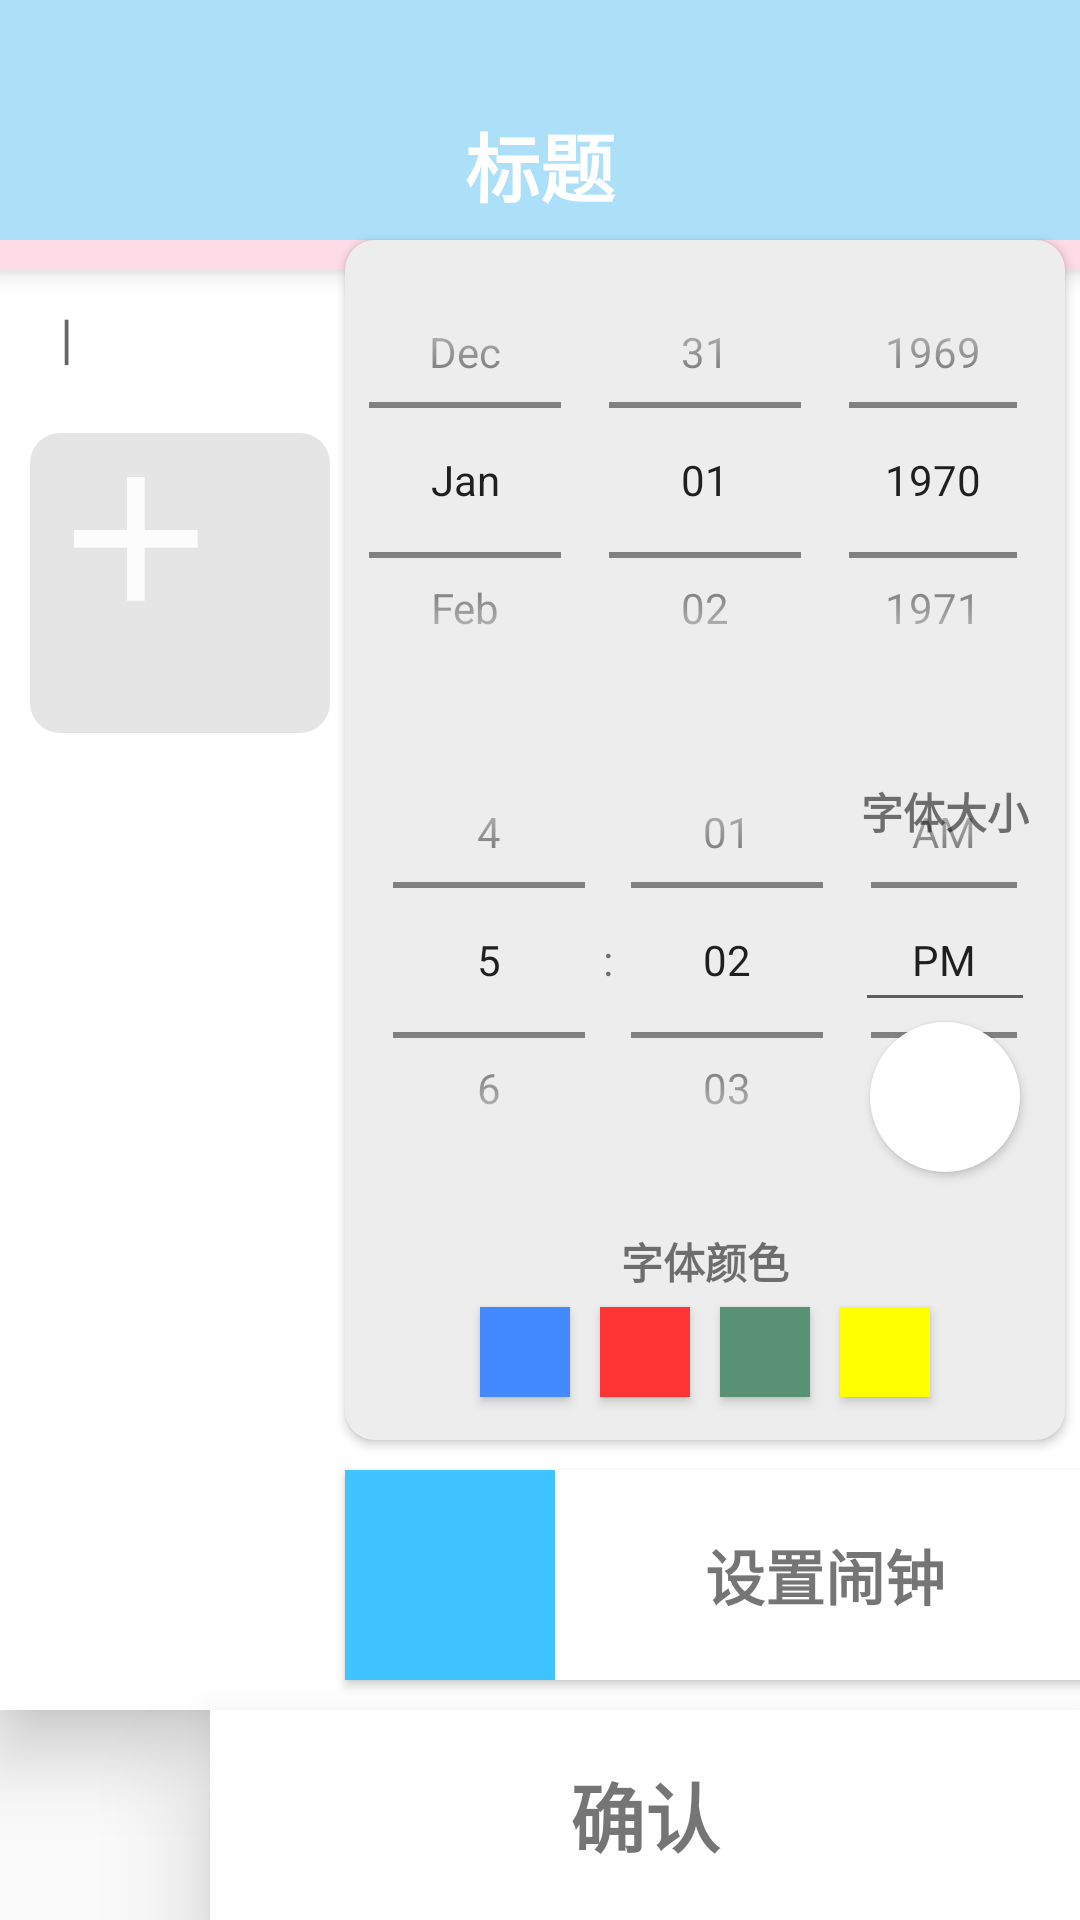

Point at icon controls on the screen. Image size 1080px×1920px, points as [x,y].
add: [180,583]
